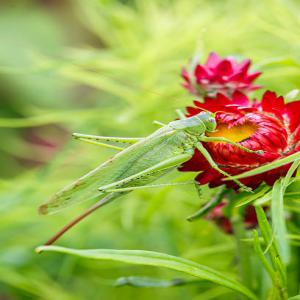locust: (16, 94, 239, 248)
